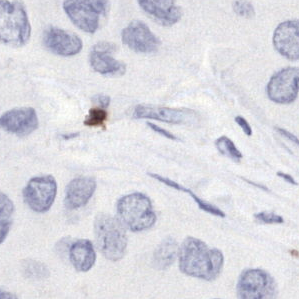Lymphocyte: (84, 107, 108, 127)
